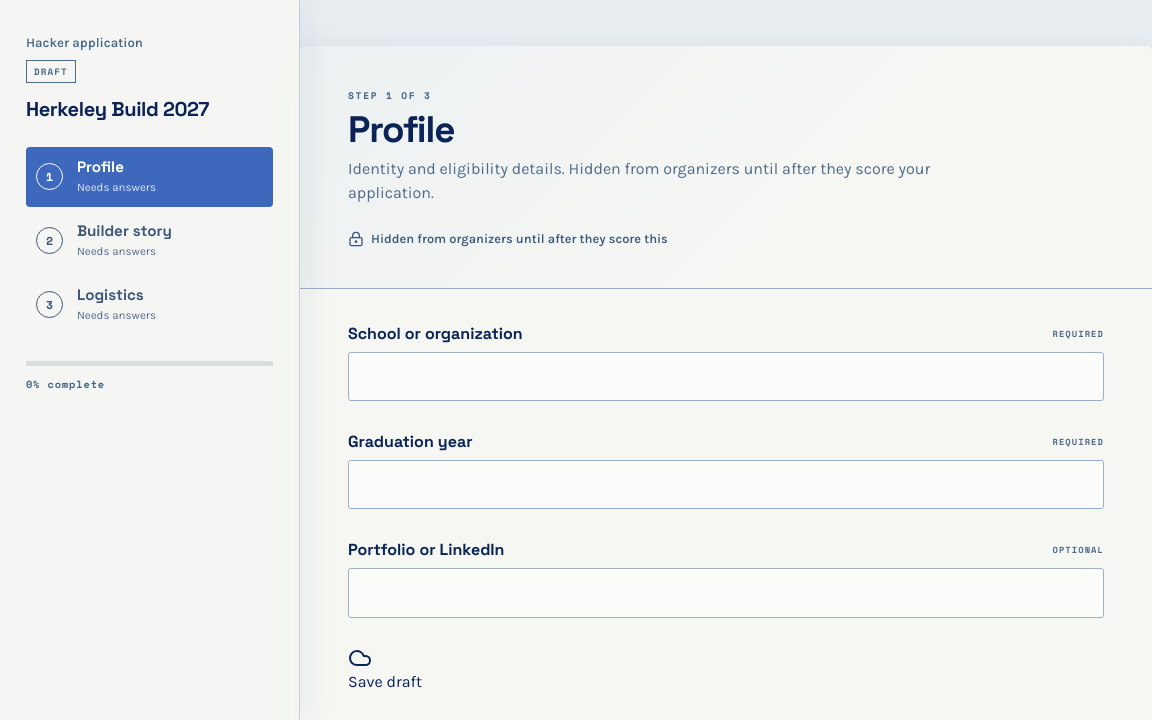
Test: application workspace › allows an incomplete draft to be saved and keeps its editor mounted across a quick step change
The width and height of the screenshot is (1152, 720).
Type "Berkeley" into the field labelled "School or organization" at (726, 376), box [348,352,1104,401]
(page scrolled)
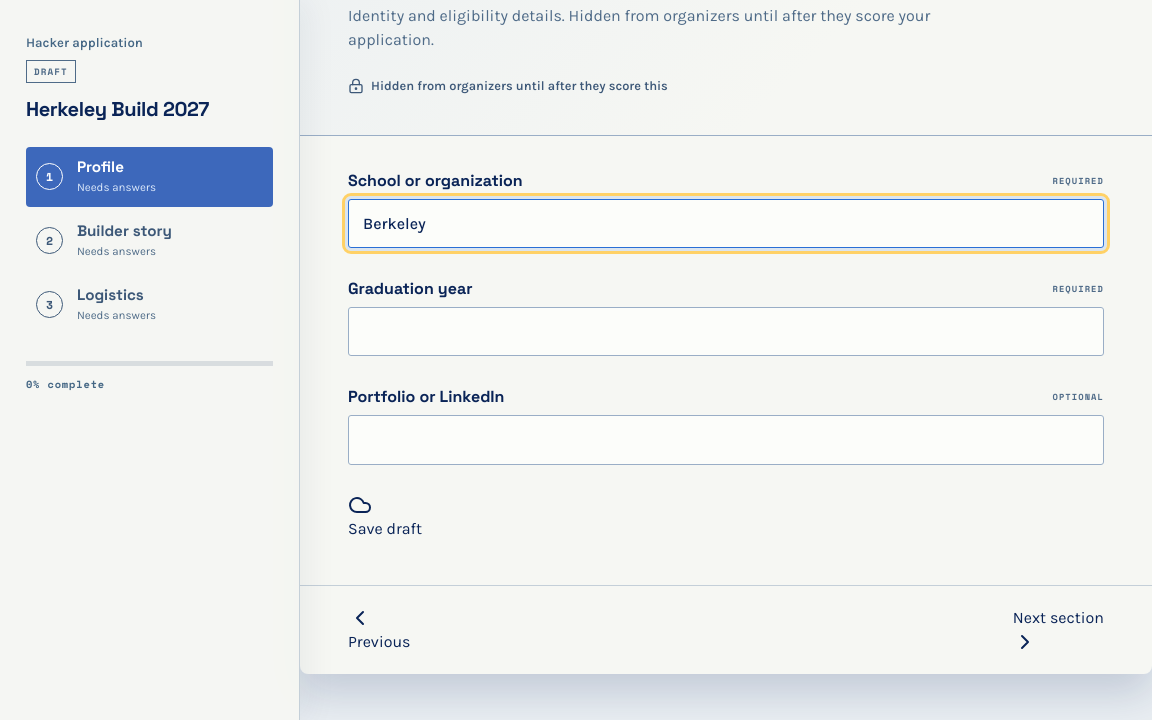
Click the button "Next section" at (1058, 630), box [1013,606,1104,654]
(page scrolled)
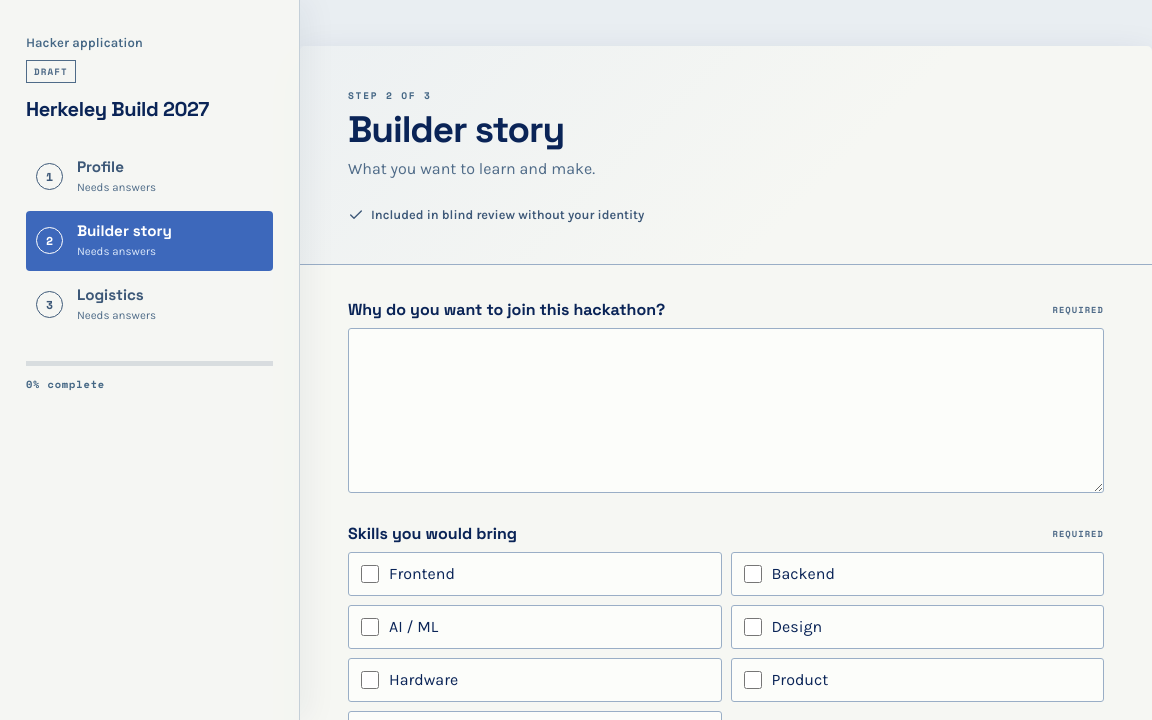
Now the heading "Builder story" is shown, box [348,106,564,153]
